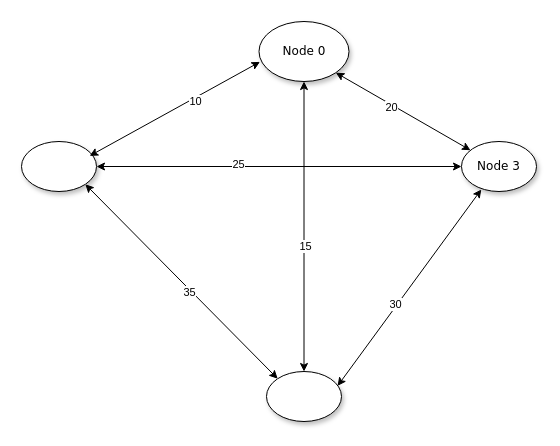
This 560x446 diagram has some shape labels left out. Here are the shapes that lost their labels. From the top down, the centre of each, then its label:
At point (59, 167): "Node 1".
At point (305, 397): "Node 2".
